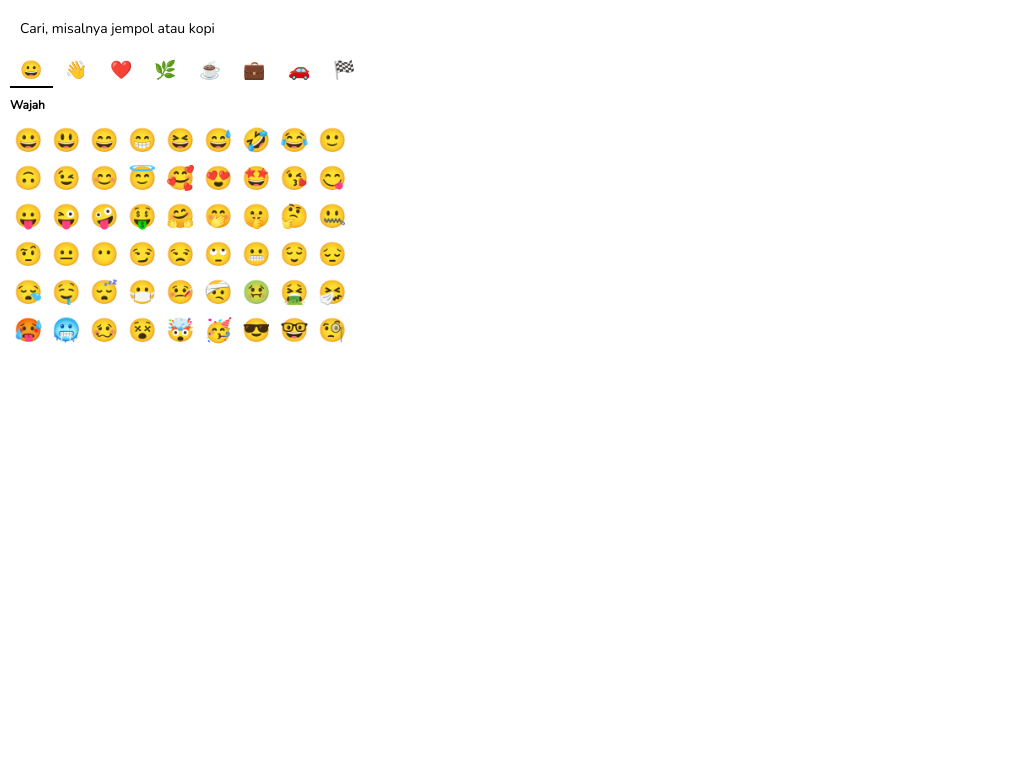
Test case: EmojiPicker › panah di tab kategori pindah kategori
Press Tab
Press Arrowright
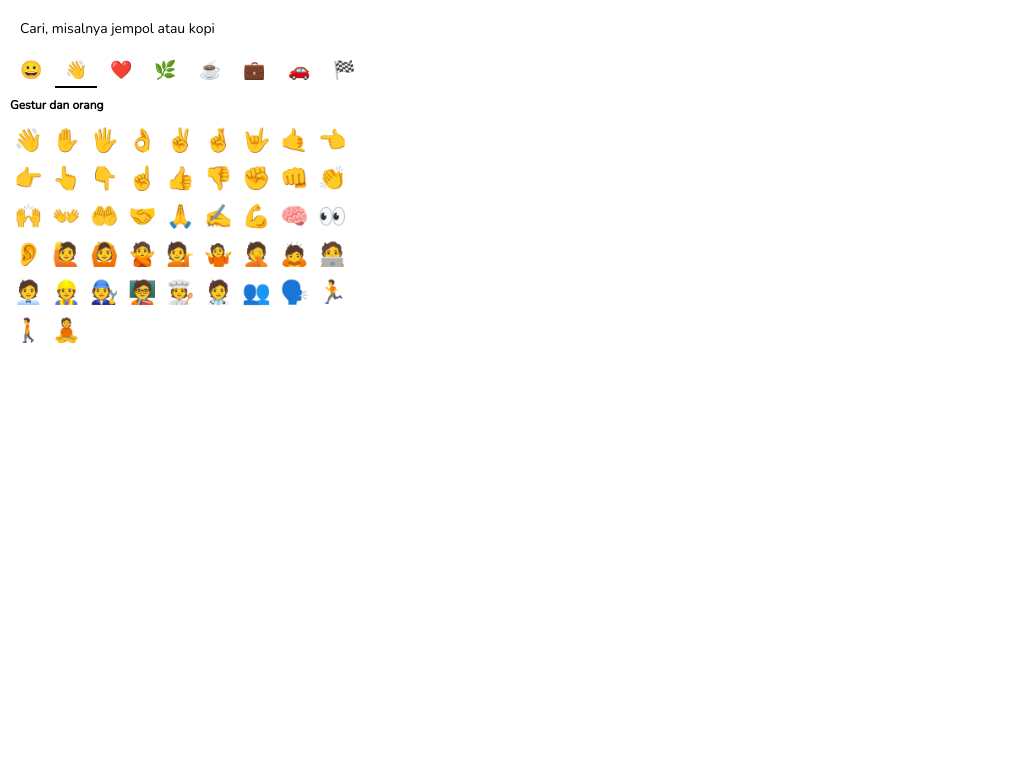
Expected: the button named "jempol" is shown, [162,160,198,196]
Press End
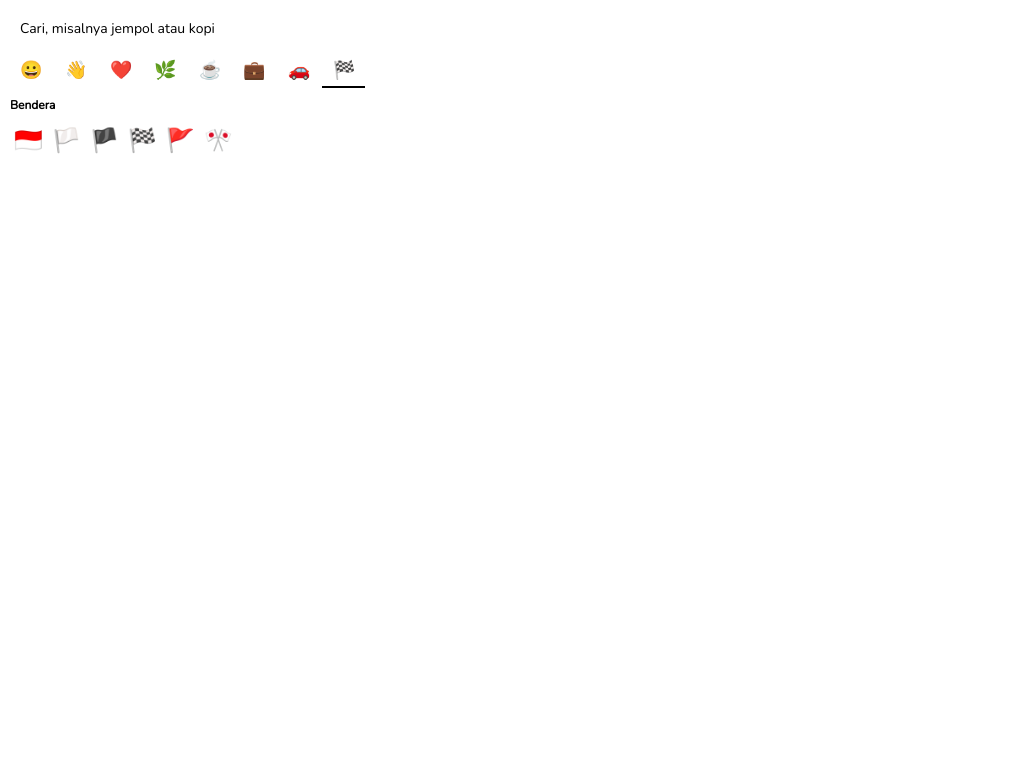
Press Arrowright
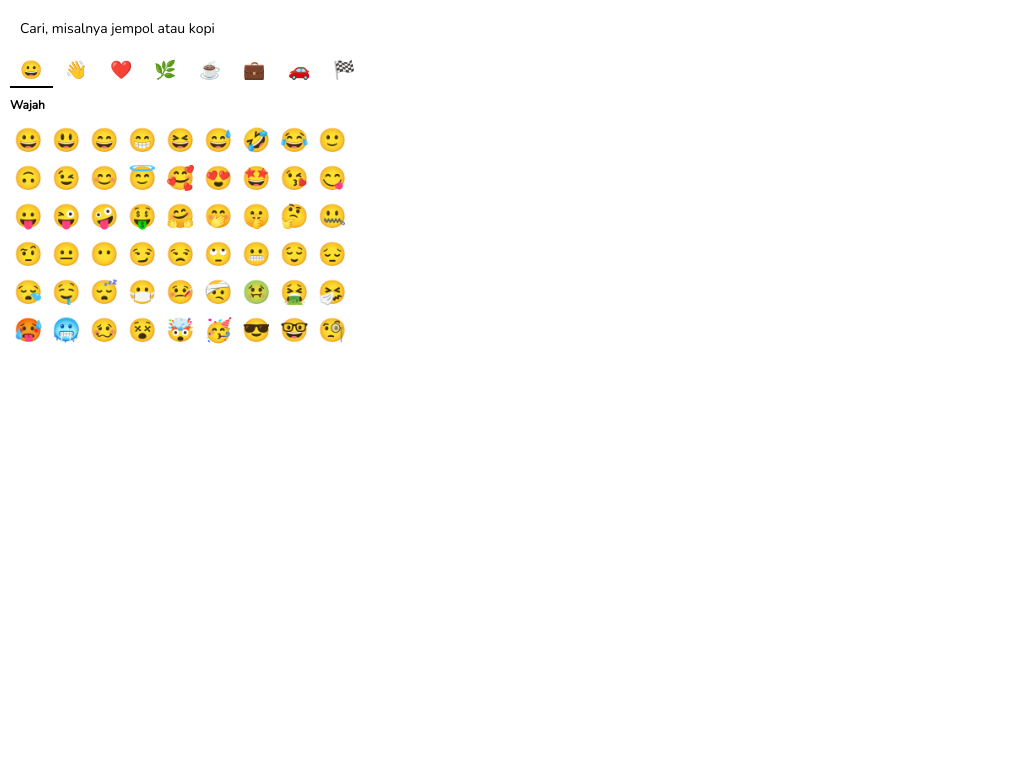
Click the tab named "Makanan dan minuman".
click(210, 71)  # box [188,54,231,88]
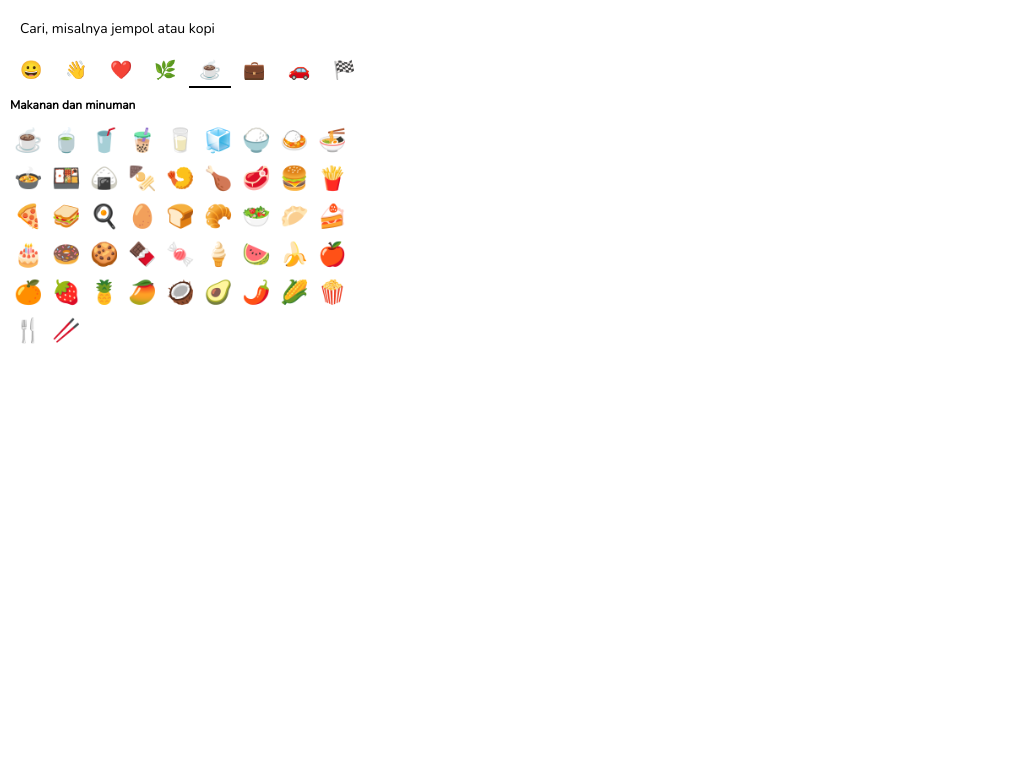
Expected: the button named "kopi" is shown, [10,122,46,158]
